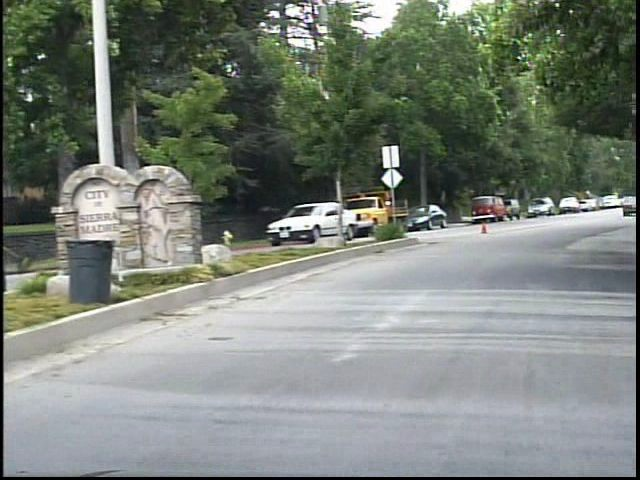person: (2, 166, 29, 298)
